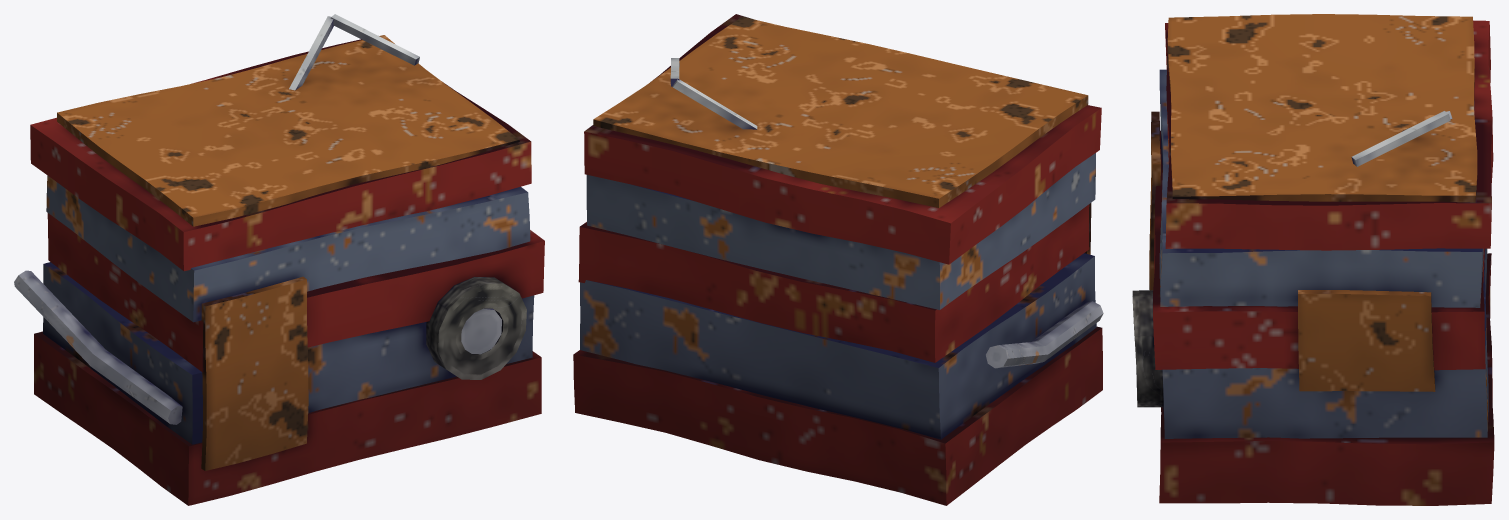
The model's file is RockCarCube.glb.
3 views of the same model, side by side, from view 1: azimuth 30°, elevation 25°; view 2: azimuth 150°, elevation 25°; view 3: azimuth 270°, elevation 25° (orthographic). The views are drawn at different scales.
Visible parts, largest first — view 1: Panels, Rust, FadedPanels, Trim, Wheel; view 2: Panels, FadedPanels, Rust, Trim; view 3: Rust, Panels, FadedPanels, Wheel, Trim.
Part boxes in pixels (left/top/right/bottom): Panels: left=30, top=39, right=544, bottom=505; Rust: left=57, top=35, right=519, bottom=470; FadedPanels: left=43, top=175, right=534, bottom=444; Trim: left=14, top=14, right=501, bottom=424; Wheel: left=426, top=276, right=526, bottom=379; Panels: left=573, top=14, right=1102, bottom=505; FadedPanels: left=580, top=153, right=1096, bottom=439; Rust: left=593, top=16, right=1091, bottom=254; Trim: left=670, top=58, right=1103, bottom=368; Rust: left=1149, top=14, right=1477, bottom=391; Panels: left=1153, top=20, right=1494, bottom=505; FadedPanels: left=1159, top=69, right=1488, bottom=438; Wheel: left=1132, top=290, right=1163, bottom=407; Trim: left=1136, top=111, right=1452, bottom=373.
Bounding box in the file's own units: 3.62 × 2.84 × 2.61.
5 materials, 5 textured.
